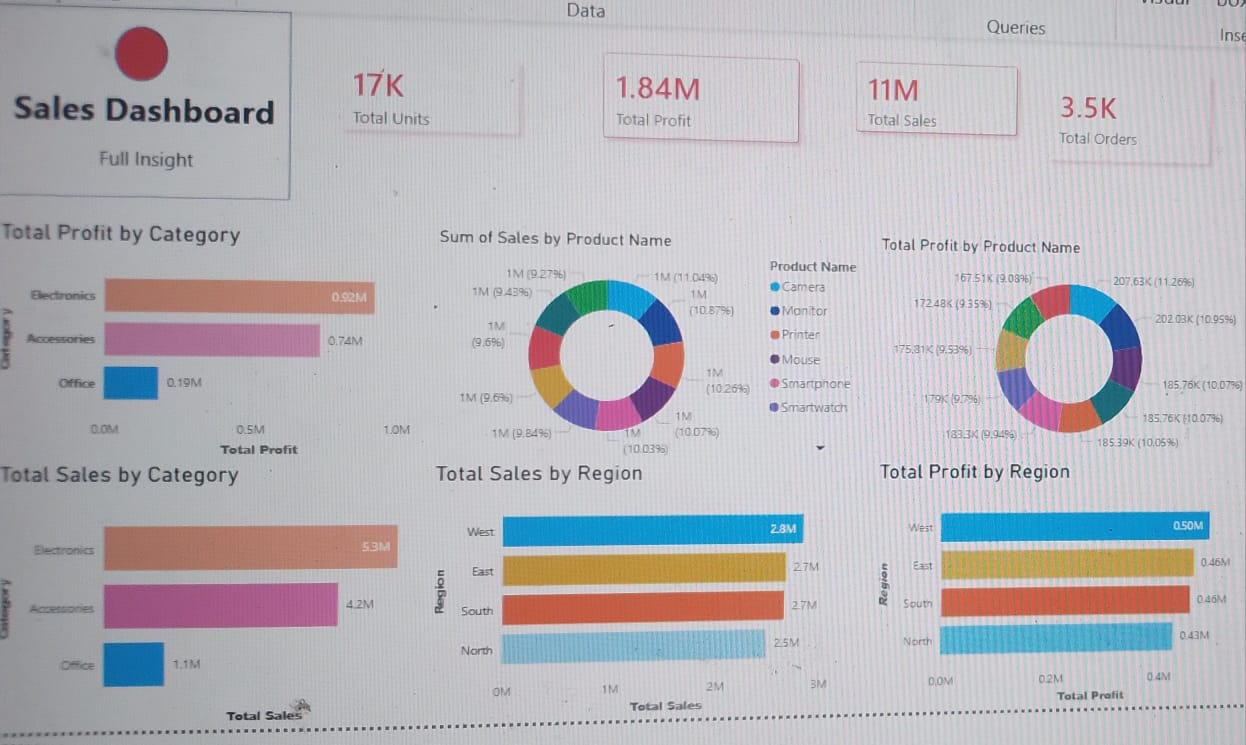

What the dashboard file says about the page in this screenshot:
{"tool":"powerbi","page":{"name":"Page 1","canvas":[1280,720],"ordinal":0},"visuals":[{"type":"shape","box":[0,0,277.8,189],"z":0},{"type":"cardVisual","fields":{"Data":["Sum(ecommerce_sales_data1.Sales)"]},"box":[810.1,0,231.7,132.2],"z":1000},{"type":"cardVisual","fields":{"Data":["Sum(ecommerce_sales_data1.Profit)"]},"box":[552,0,258,146],"z":2000},{"type":"cardVisual","fields":{"Data":["CountNonNull(ecommerce_sales_data1.Sales)"]},"box":[1017,1.9,237.5,155.1],"z":3000},{"type":"barChart","fields":{"Category":["ecommerce_sales_data1.Category"],"Y":["Sum(ecommerce_sales_data1.Sales)"]},"box":[0,452,414,268],"z":4000},{"type":"barChart","fields":{"Category":["ecommerce_sales_data1.Category"],"Y":["Sum(ecommerce_sales_data1.Profit)"]},"box":[0,212,416,240],"z":5000},{"type":"barChart","fields":{"Category":["ecommerce_sales_data1.Region"],"Y":["Sum(ecommerce_sales_data1.Sales)"]},"box":[414,452,414,268],"z":6000},{"type":"barChart","fields":{"Category":["ecommerce_sales_data1.Region"],"Y":["Sum(ecommerce_sales_data1.Profit)"]},"box":[864,452,416,268],"z":7000},{"type":"donutChart","fields":{"Category":["ecommerce_sales_data1.Product Name"],"Y":["Sum(ecommerce_sales_data1.Profit)"]},"box":[864,212,416,240],"z":8000},{"type":"donutChart","fields":{"Category":["ecommerce_sales_data1.Product Name"],"Y":["Sum(ecommerce_sales_data1.Sales)"]},"box":[416,212,448,240],"z":9000},{"type":"cardVisual","fields":{"Data":["Sum(ecommerce_sales_data1.Quantity)"]},"box":[294.8,13.2,232.4,132.3],"z":10000},{"type":"textbox","box":[5.7,73.7,268.3,58.6],"z":11000},{"type":"textbox","box":[64.3,132.3,153.1,45.4],"z":12000},{"type":"shape","box":[109.6,18.9,51,54.8],"z":13000}]}

Visuals, with their boxes on the page's 1280x720 design canvas (x1, y1, x2, y2). These are canvas units, not pixel positions in the 1246x745 screenshot, which may show the page scaled, cropped or inside an application window:
shape: box=[0, 0, 278, 189]
cardVisual - Sum(ecommerce_sales_data1.Sales): box=[810, 0, 1042, 132]
cardVisual - Sum(ecommerce_sales_data1.Profit): box=[552, 0, 810, 146]
cardVisual - CountNonNull(ecommerce_sales_data1.Sales): box=[1017, 2, 1254, 157]
barChart - ecommerce_sales_data1.Category x Sum(ecommerce_sales_data1.Sales): box=[0, 452, 414, 720]
barChart - ecommerce_sales_data1.Category x Sum(ecommerce_sales_data1.Profit): box=[0, 212, 416, 452]
barChart - ecommerce_sales_data1.Region x Sum(ecommerce_sales_data1.Sales): box=[414, 452, 828, 720]
barChart - ecommerce_sales_data1.Region x Sum(ecommerce_sales_data1.Profit): box=[864, 452, 1280, 720]
donutChart - ecommerce_sales_data1.Product Name x Sum(ecommerce_sales_data1.Profit): box=[864, 212, 1280, 452]
donutChart - ecommerce_sales_data1.Product Name x Sum(ecommerce_sales_data1.Sales): box=[416, 212, 864, 452]
cardVisual - Sum(ecommerce_sales_data1.Quantity): box=[295, 13, 527, 146]
textbox: box=[6, 74, 274, 132]
textbox: box=[64, 132, 217, 178]
shape: box=[110, 19, 161, 74]
